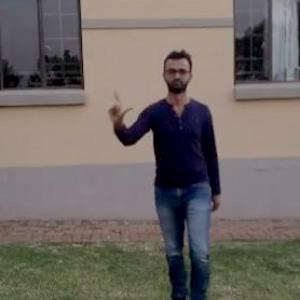land_hand: (102, 86, 138, 124)
